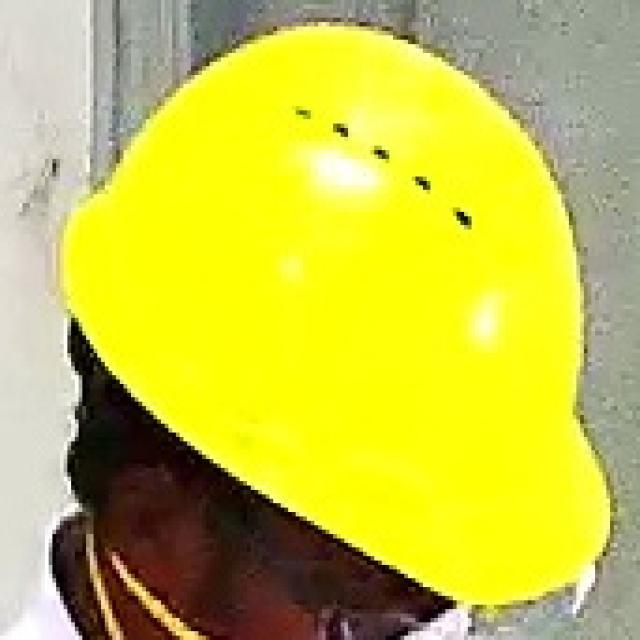yellow helmet: (62, 27, 618, 612)
